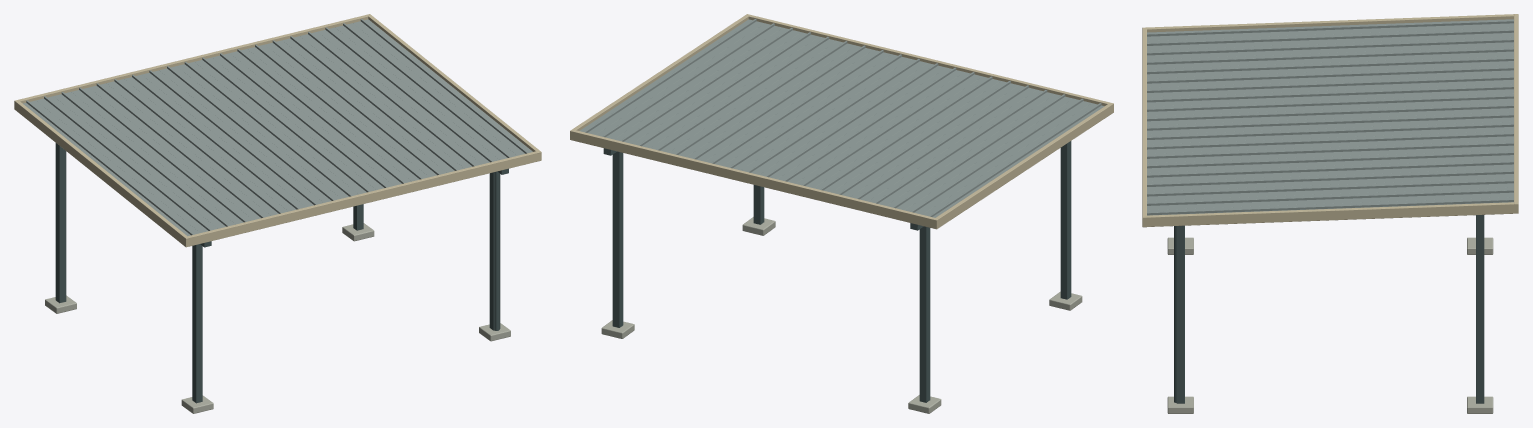
The picture shows the model from 3 angles, left to right: view 1: azimuth 30°, elevation 25°; view 2: azimuth 150°, elevation 25°; view 3: azimuth 270°, elevation 25°; orthographic projection. The views are drawn at different scales.
Visible parts, largest first — view 1: FASCIA_End, ROOF_Sheet_6, ROOF_Sheet_13, ROOF_Sheet_14, ROOF_Sheet_11, ROOF_Sheet_12, ROOF_Sheet_3, ROOF_Sheet_5, ROOF_Sheet_7, ROOF_Sheet_1, ROOF_Sheet_15, ROOF_Sheet_16 (+36 smaller); view 2: FASCIA_End.001, ROOF_Sheet_17, ROOF_Sheet_2, ROOF_Sheet_7, ROOF_Sheet_4, ROOF_Sheet_15, ROOF_Sheet_12, ROOF_Sheet_9, ROOF_Sheet_1, ROOF_Sheet_6, ROOF_Sheet_10, ROOF_Sheet_13 (+35 smaller); view 3: FASCIA_Side.001, ROOF_Sheet_10, ROOF_Sheet_12, ROOF_Sheet_2, ROOF_Sheet_5, ROOF_Sheet_7, ROOF_Sheet_15, ROOF_Sheet_17, ROOF_Sheet_3, ROOF_Sheet_8, ROOF_Sheet_13, ROOF_Sheet_14 (+37 smaller).
Boxes of the visible parts, x1=… form: FASCIA_End: x1=184, y1=151, x2=541, y2=247; ROOF_Sheet_6: x1=124, y1=74, x2=305, y2=211; ROOF_Sheet_13: x1=247, y1=44, x2=428, y2=181; ROOF_Sheet_14: x1=265, y1=40, x2=446, y2=177; ROOF_Sheet_11: x1=212, y1=53, x2=393, y2=189; ROOF_Sheet_12: x1=229, y1=49, x2=411, y2=185; ROOF_Sheet_3: x1=71, y1=87, x2=252, y2=224; ROOF_Sheet_5: x1=106, y1=79, x2=288, y2=215; ROOF_Sheet_7: x1=142, y1=70, x2=323, y2=207; ROOF_Sheet_1: x1=36, y1=96, x2=217, y2=232; ROOF_Sheet_15: x1=282, y1=36, x2=463, y2=172; ROOF_Sheet_16: x1=300, y1=31, x2=481, y2=168; FASCIA_End.001: x1=570, y1=129, x2=938, y2=228; ROOF_Sheet_17: x1=614, y1=27, x2=800, y2=143; ROOF_Sheet_2: x1=886, y1=94, x2=1073, y2=210; ROOF_Sheet_7: x1=795, y1=72, x2=982, y2=187; ROOF_Sheet_4: x1=850, y1=85, x2=1036, y2=201; ROOF_Sheet_15: x1=650, y1=36, x2=836, y2=152; ROOF_Sheet_12: x1=705, y1=50, x2=891, y2=165; ROOF_Sheet_9: x1=759, y1=63, x2=946, y2=179; ROOF_Sheet_1: x1=904, y1=98, x2=1091, y2=214; ROOF_Sheet_6: x1=814, y1=76, x2=1000, y2=192; ROOF_Sheet_10: x1=741, y1=58, x2=927, y2=174; ROOF_Sheet_13: x1=686, y1=45, x2=873, y2=161; FASCIA_Side.001: x1=1142, y1=202, x2=1518, y2=227; ROOF_Sheet_10: x1=1147, y1=112, x2=1513, y2=134; ROOF_Sheet_12: x1=1147, y1=131, x2=1513, y2=153; ROOF_Sheet_2: x1=1147, y1=37, x2=1513, y2=59; ROOF_Sheet_5: x1=1147, y1=65, x2=1513, y2=87; ROOF_Sheet_7: x1=1147, y1=84, x2=1513, y2=106; ROOF_Sheet_15: x1=1147, y1=159, x2=1513, y2=181; ROOF_Sheet_17: x1=1147, y1=178, x2=1513, y2=200; ROOF_Sheet_3: x1=1147, y1=46, x2=1513, y2=69; ROOF_Sheet_8: x1=1147, y1=93, x2=1513, y2=116; ROOF_Sheet_13: x1=1147, y1=140, x2=1513, y2=163; ROOF_Sheet_14: x1=1147, y1=150, x2=1513, y2=172.
Size of the model in its own units: 5.86 by 3.17 by 4.9.
